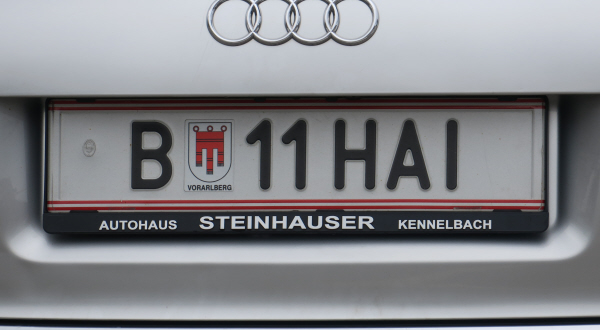license_plate: (48, 101, 546, 212)
